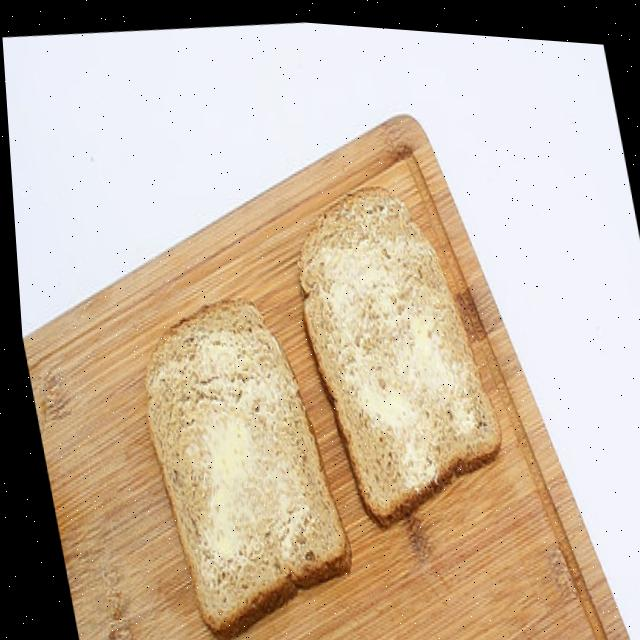Bread: (140, 298, 343, 634), (296, 183, 495, 517)
